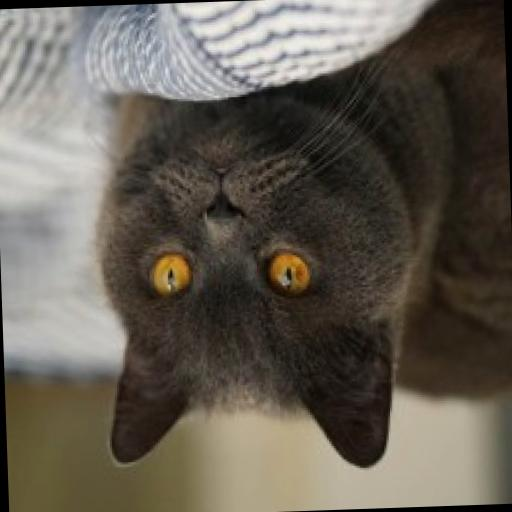cat: (63, 0, 512, 487)
